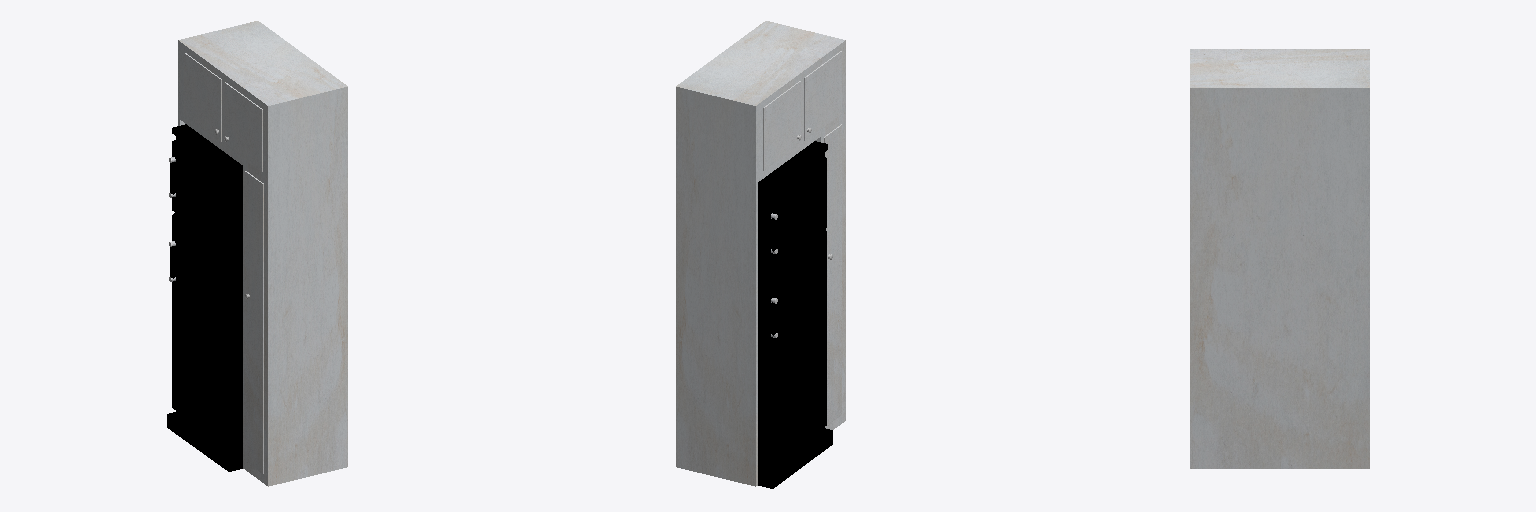
3 renders of one model, left to right at view 1: azimuth 30°, elevation 25°; view 2: azimuth 150°, elevation 25°; view 3: azimuth 270°, elevation 25°, orthographic.
Parts seen in each view (by area): view 1: polySurface61 polySurface68, polySurface61 polySurface74, polySurface61 polySurface67, polySurface72 polySurface61, polySurface61 polySurface71, polySurface61 polySurface66, polySurface61 polySurface69, polySurface61 polySurface73, polySurface61 polySurface75; view 2: polySurface61 polySurface68, polySurface61 polySurface74, polySurface61 polySurface67, polySurface72 polySurface61, polySurface61 polySurface71, polySurface61 polySurface66, polySurface61 polySurface69, polySurface61 polySurface73, polySurface61 polySurface75; view 3: polySurface61 polySurface68.
Boxes of the visible parts, box(x1,y1,x2,y2) form: polySurface61 polySurface68: box(178, 21, 347, 486); polySurface61 polySurface74: box(172, 213, 234, 450); polySurface61 polySurface67: box(244, 171, 263, 473); polySurface72 polySurface61: box(172, 140, 234, 252); polySurface61 polySurface71: box(176, 137, 242, 455); polySurface61 polySurface66: box(225, 82, 262, 171); polySurface61 polySurface69: box(184, 53, 221, 141); polySurface61 polySurface73: box(167, 412, 242, 471); polySurface61 polySurface75: box(172, 124, 242, 177); polySurface61 polySurface68: box(676, 21, 845, 486); polySurface61 polySurface74: box(766, 229, 826, 468); polySurface61 polySurface67: box(824, 124, 841, 426); polySurface72 polySurface61: box(766, 156, 826, 269); polySurface61 polySurface71: box(758, 153, 824, 472); polySurface61 polySurface66: box(804, 51, 841, 140); polySurface61 polySurface69: box(763, 81, 800, 170); polySurface61 polySurface73: box(758, 428, 832, 488); polySurface61 polySurface75: box(758, 141, 827, 194); polySurface61 polySurface68: box(1190, 49, 1369, 468).
Bounding box in the file's own units: 0.7904 × 3.05 × 1.3.
Materials: 6 (2 with a texture image).